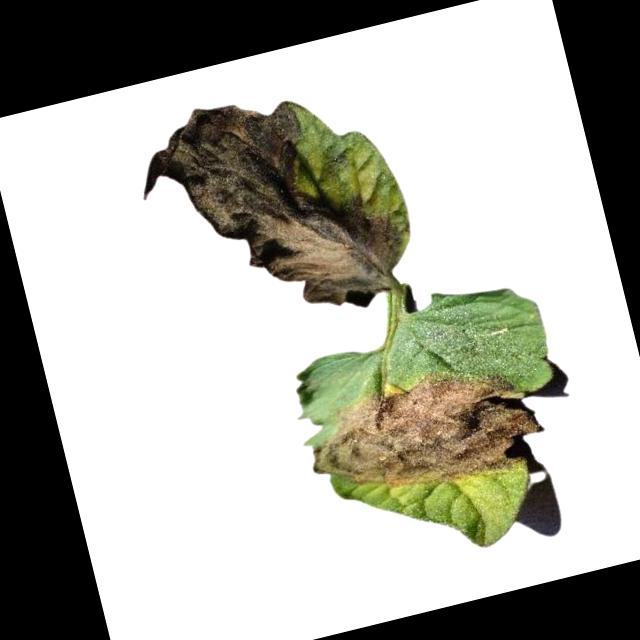Late_blight: (126, 71, 416, 352), (297, 346, 552, 516)
